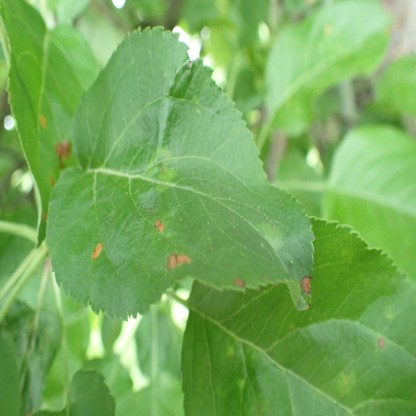frogeye_leaf_spot: (55, 142, 71, 167), (166, 254, 189, 268), (93, 244, 102, 258), (234, 278, 246, 288), (303, 277, 311, 292), (154, 219, 163, 232), (39, 116, 47, 128), (378, 338, 384, 349)
scab: (144, 148, 176, 191), (257, 223, 281, 250), (335, 369, 355, 393), (383, 307, 393, 320), (237, 379, 245, 390), (225, 345, 233, 354)
